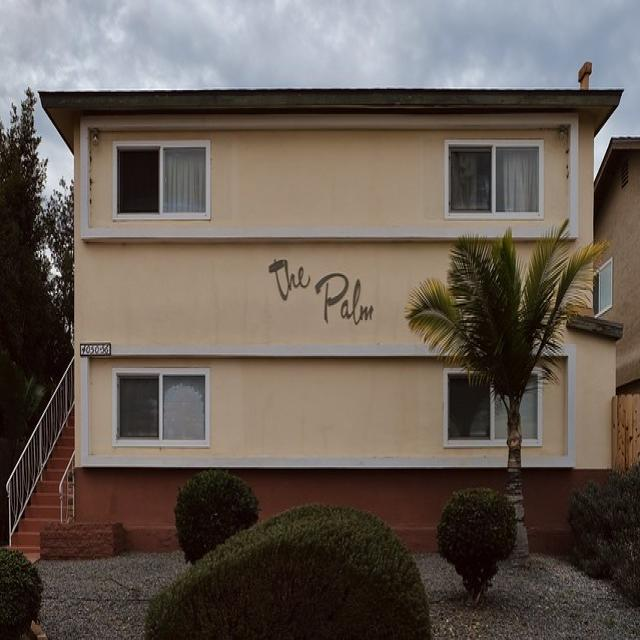building: (7, 78, 625, 568)
